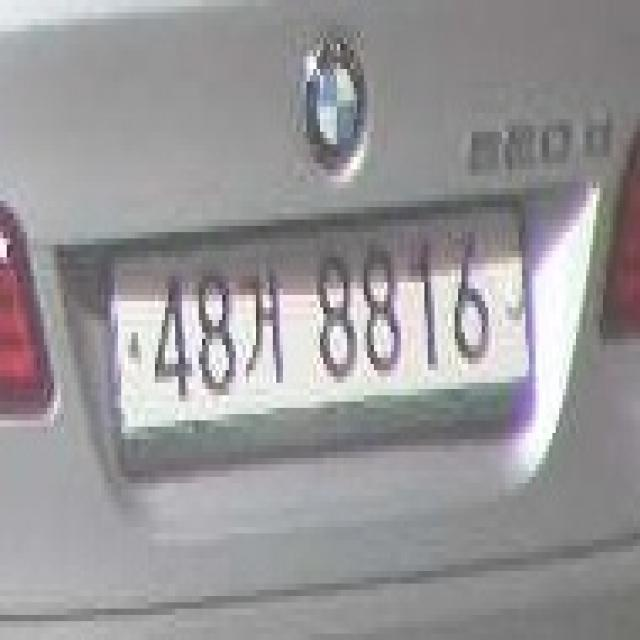1: (406, 241, 441, 389)
4: (146, 257, 194, 415)
6: (448, 228, 497, 378)
8: (314, 245, 359, 393), (364, 246, 406, 393), (197, 264, 237, 412)
geo: (240, 266, 286, 399)
license_plate: (90, 198, 543, 430)
